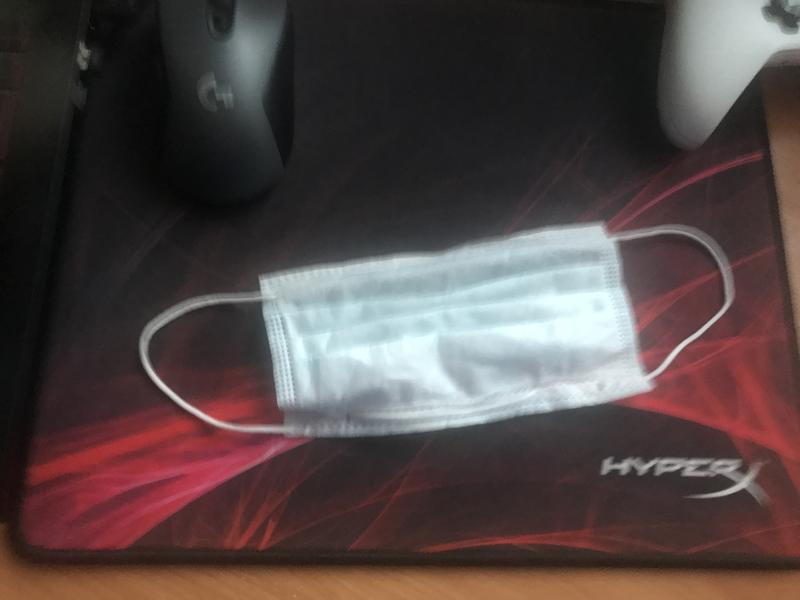medical_mask: (138, 226, 733, 439)
